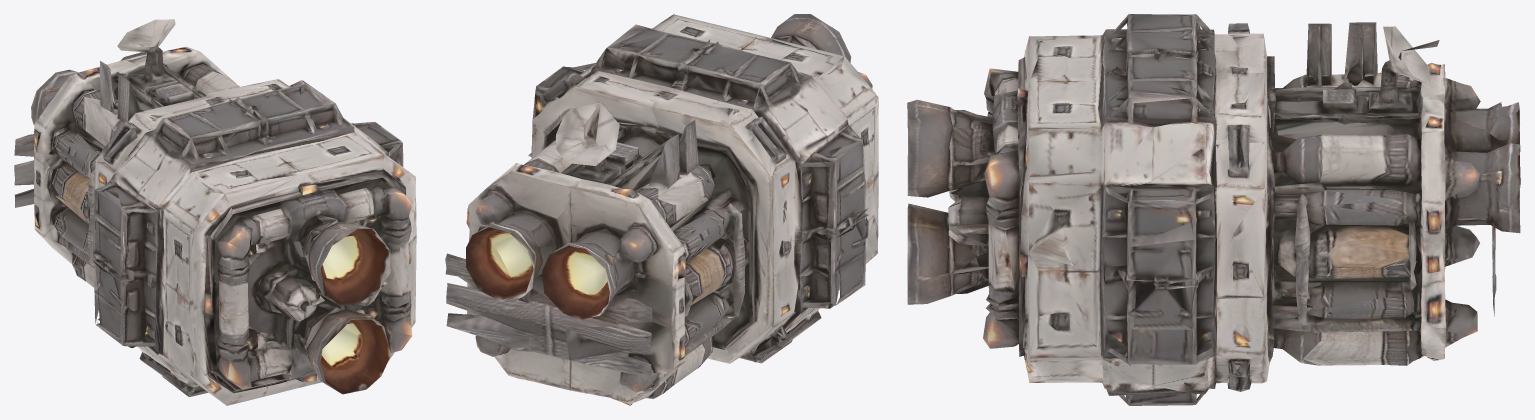
File: ringModule.glb
3 renders of one model, left to right at view 1: azimuth 30°, elevation 25°; view 2: azimuth 150°, elevation 25°; view 3: azimuth 270°, elevation 25°, orthographic. The views are drawn at different scales.
Visible parts, largest first — view 1: ringModule; view 2: ringModule; view 3: ringModule.
Boxes of the visible parts, left/top/right/bottom form: ringModule: left=14, top=19, right=416, bottom=405; ringModule: left=445, top=14, right=878, bottom=405; ringModule: left=907, top=14, right=1520, bottom=405.
Bounding box in the file's own units: 26.19 × 24.59 × 40.
Materials: 1 (1 with a texture image).
